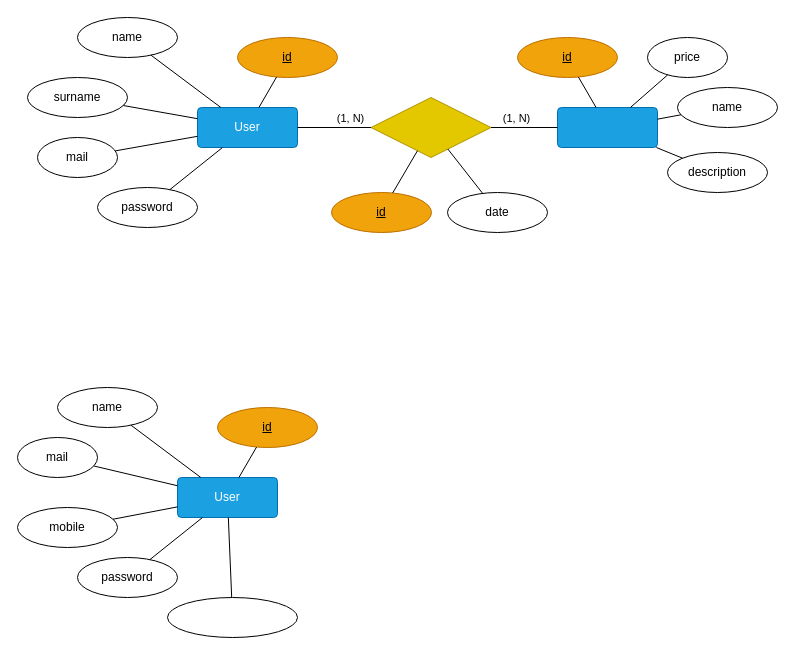
The diagram is 795 pixels wide and 655 high, and some of its shapes have lost their labels. Here are the shapes that lost their labels. From the top down, the centre of each, then its label:
At point (430, 127): "buy".
At point (607, 127): "Product".
At point (232, 617): "registration_date".
